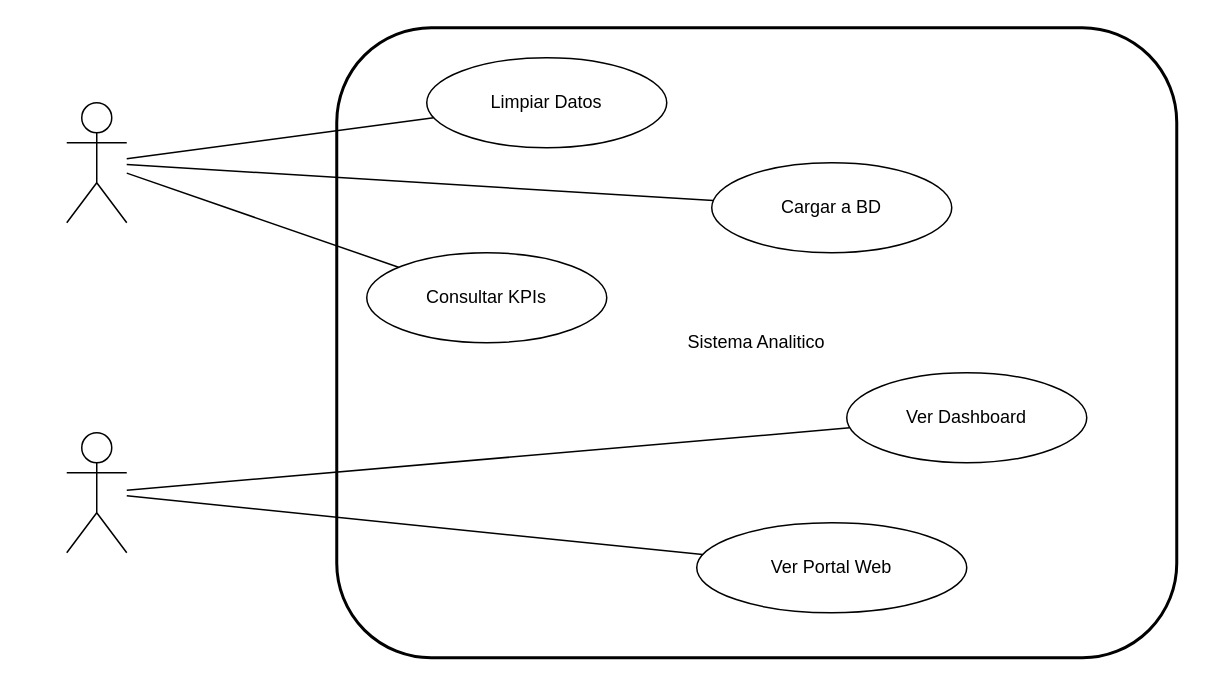
Image size: 1205x684. Some labels were removed from this diagram. Here are the shapes that lost their labels. From the top down, the centre of each, then its label:
At [96,162]: "Analista de Datos".
At [96,492]: "Stakeholder".
